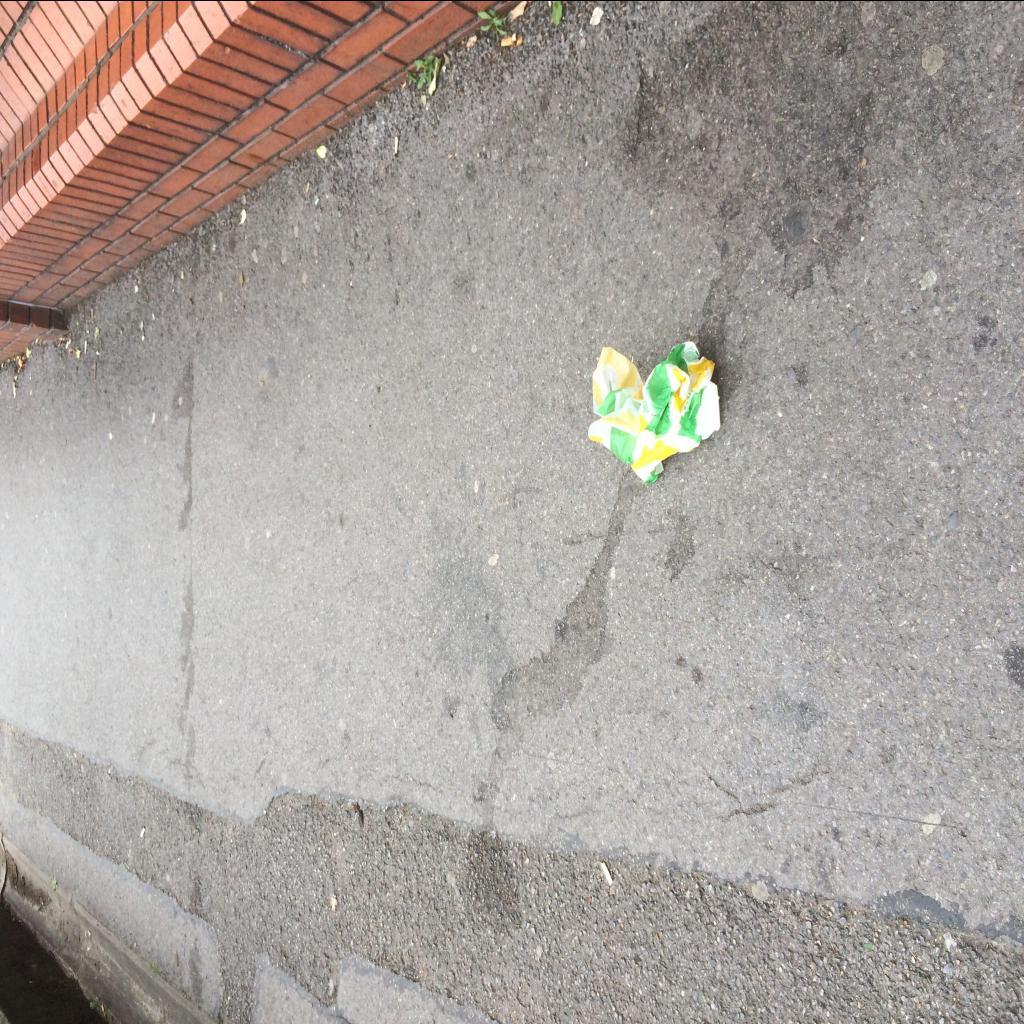Wrapping paper: (588, 341, 720, 483)
